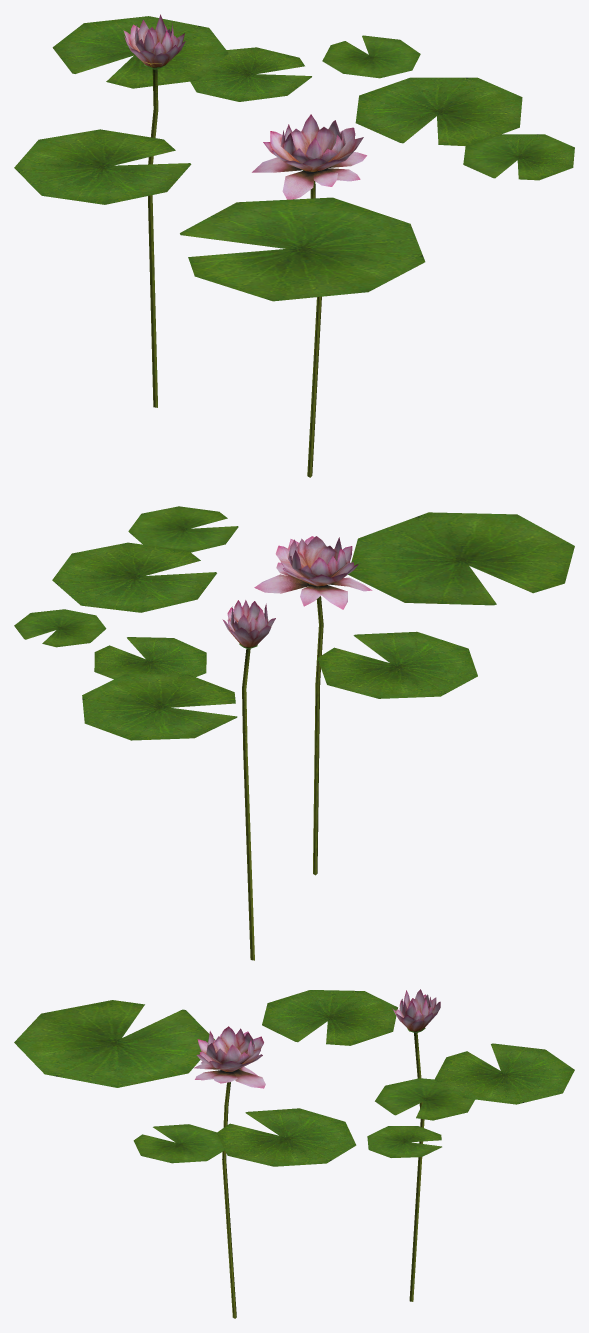
File: lotusflower_06.fbx
The picture shows the model from 3 angles, top to bottom: view 1: azimuth 30°, elevation 25°; view 2: azimuth 150°, elevation 25°; view 3: azimuth 270°, elevation 25°; orthographic projection. The views are drawn at different scales.
Visible parts, largest first — view 1: lotusflower_06; view 2: lotusflower_06; view 3: lotusflower_06.
Boxes of the visible parts, x1,y1,x2,y2 form: lotusflower_06: (14,14,574,477); lotusflower_06: (14,506,574,960); lotusflower_06: (14,989,574,1318).
Bounding box in the file's own units: 2.26 × 1.81 × 2.99.
